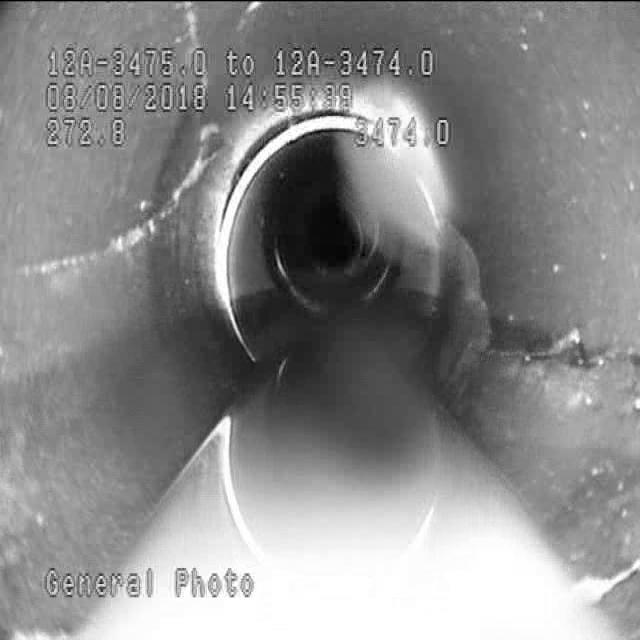Fracture: (478, 288, 640, 408), (53, 175, 211, 292)
